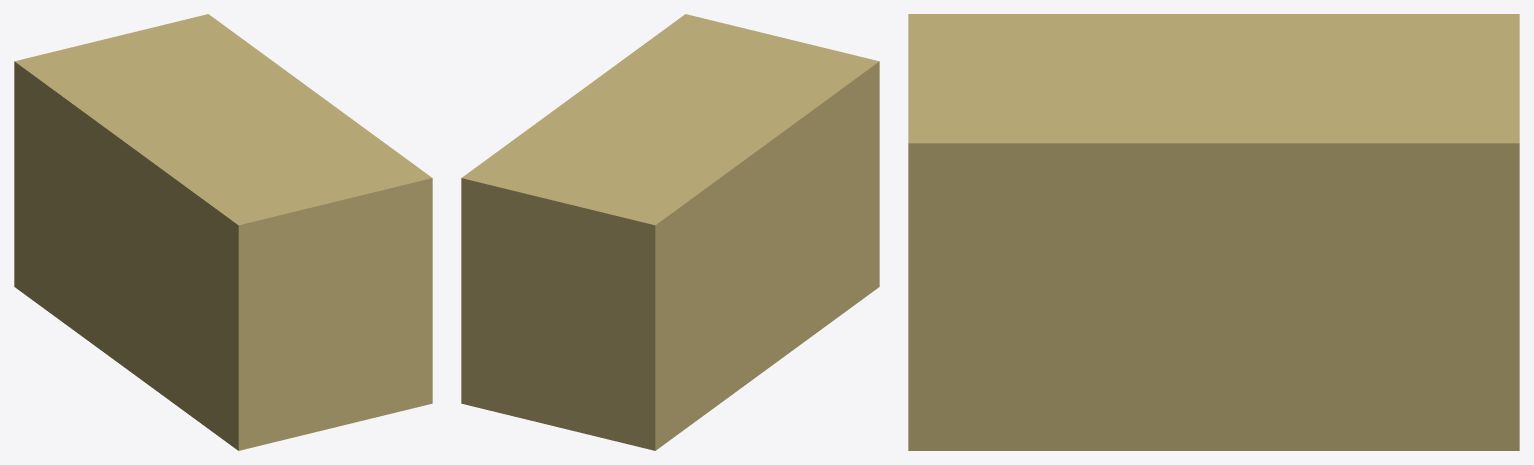
3 views of the same model, side by side, from view 1: azimuth 30°, elevation 25°; view 2: azimuth 150°, elevation 25°; view 3: azimuth 270°, elevation 25° (orthographic). The views are drawn at different scales.
Visible parts, largest first — view 1: __delivery_mesh_6819; view 2: __delivery_mesh_6819; view 3: __delivery_mesh_6819.
Part boxes in pixels (x1=…): __delivery_mesh_6819: x1=14, y1=14, x2=432, y2=450; __delivery_mesh_6819: x1=461, y1=14, x2=879, y2=450; __delivery_mesh_6819: x1=908, y1=14, x2=1519, y2=450.
Bounding box in the file's own units: 0.045 × 0.05 × 0.09.
